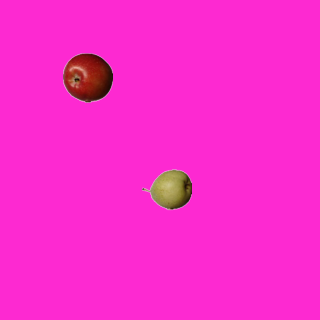Apple Braeburn: (62, 52, 112, 102)
Pear: (141, 164, 191, 214)
